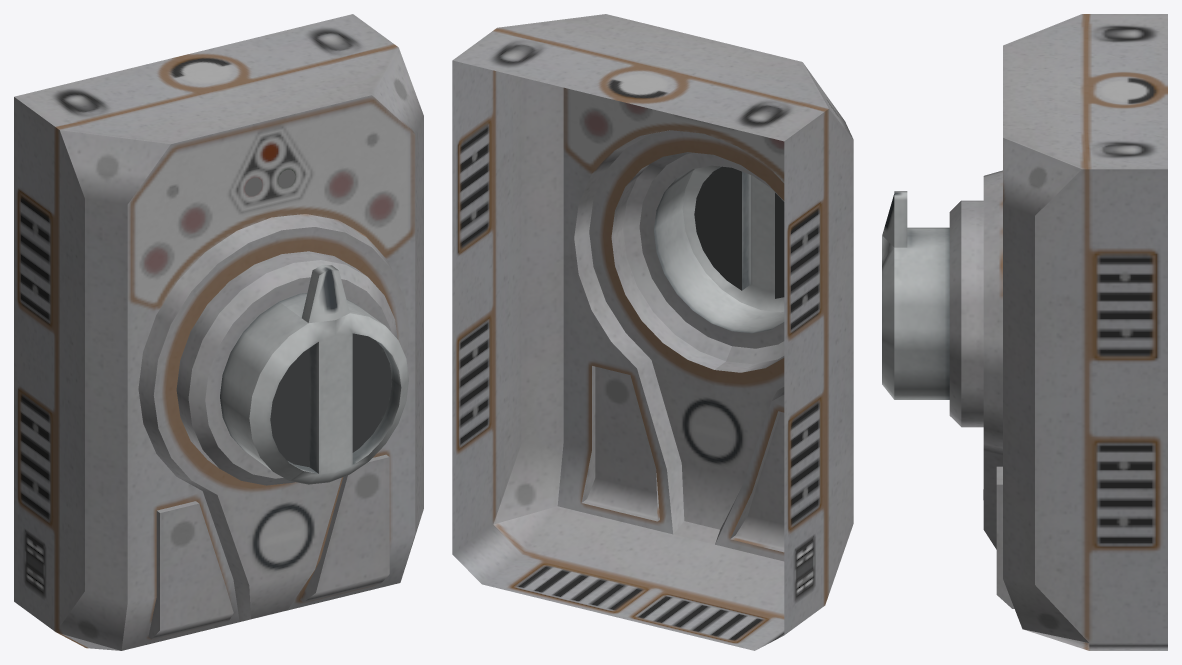
Rendered from Rotary A1B.fbx.
3 views of the same model, side by side, from view 1: azimuth 30°, elevation 25°; view 2: azimuth 150°, elevation 25°; view 3: azimuth 270°, elevation 25° (orthographic). The views are drawn at different scales.
Visible parts, largest first — view 1: Rotary A1B, RotaryHandle A1B; view 2: Rotary A1B, RotaryHandle A1B; view 3: Rotary A1B, RotaryHandle A1B.
Part boxes in pixels (x1,y1,x2,y2): Rotary A1B: (14,14,423,650); RotaryHandle A1B: (220,265,408,484); Rotary A1B: (452,14,853,650); RotaryHandle A1B: (654,165,784,333); Rotary A1B: (949,14,1167,650); RotaryHandle A1B: (882,191,949,399).
Bounding box in the file's own units: 13.77 × 20.49 × 10.71.
3 materials, 1 textured.
